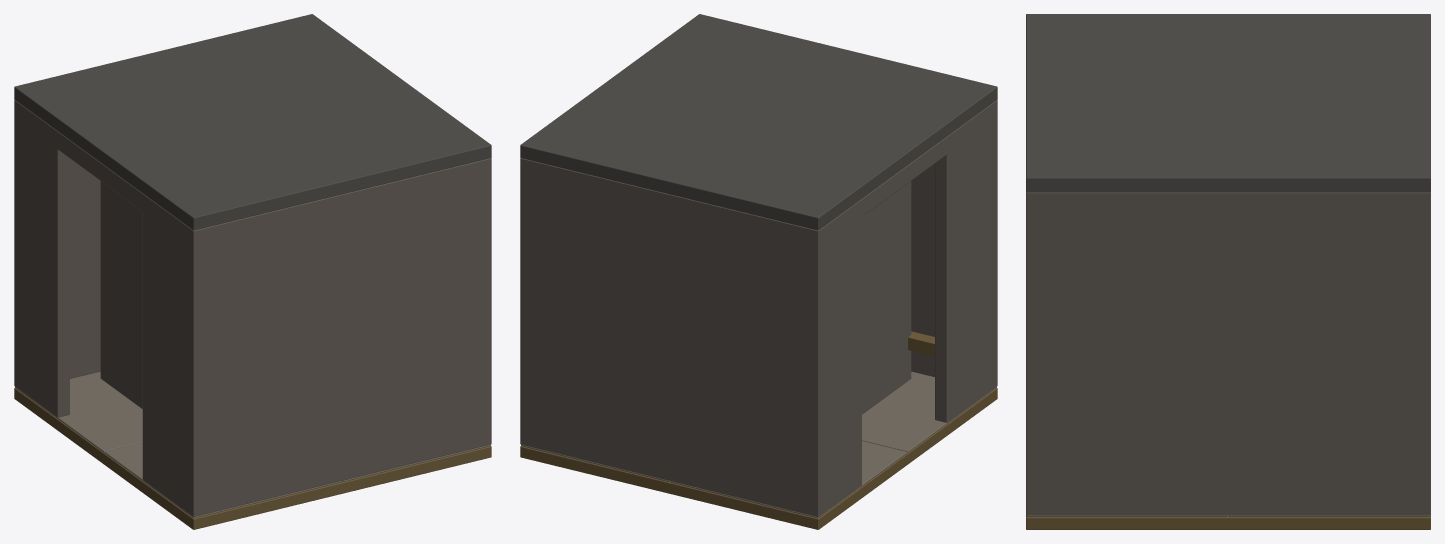
Rendered from gen-void.glb.
3 renders of one model, left to right at view 1: azimuth 30°, elevation 25°; view 2: azimuth 150°, elevation 25°; view 3: azimuth 270°, elevation 25°, orthographic. The views are drawn at different scales.
Parts seen in each view (by area): view 1: THE VOID; view 2: THE VOID; view 3: THE VOID.
Boxes of the visible parts, bbox=[...] form: THE VOID: bbox=[14, 14, 491, 529]; THE VOID: bbox=[520, 14, 997, 529]; THE VOID: bbox=[1026, 14, 1430, 529].
Bounding box in the file's own units: 2.4 × 2.4 × 2.5.
